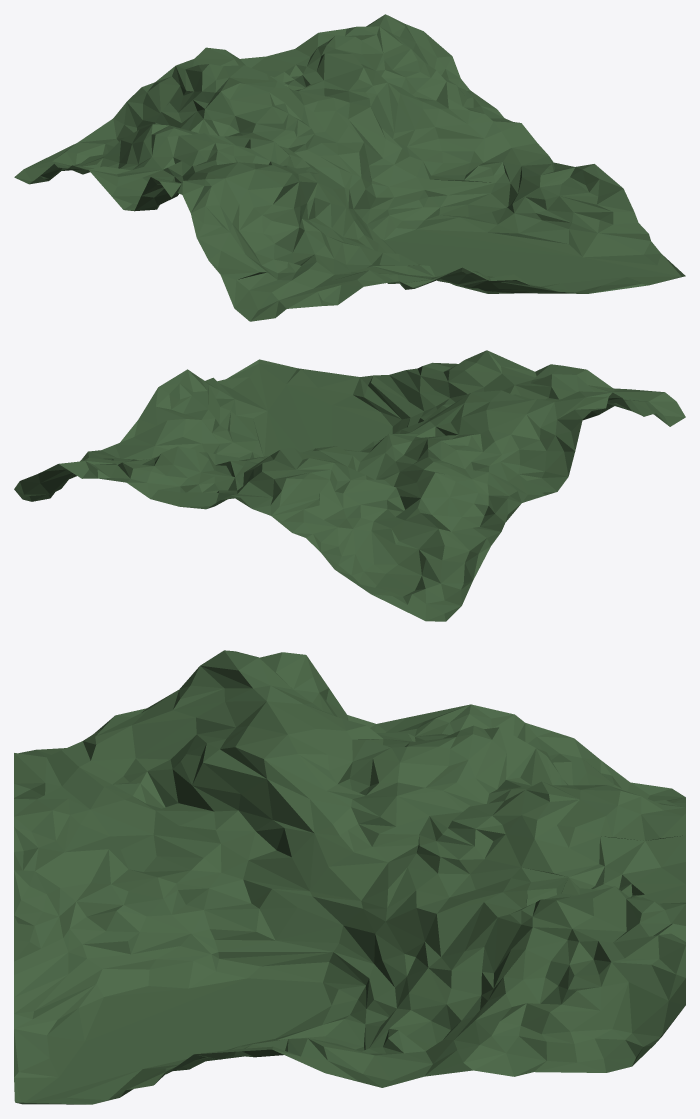
Rendered from SM_landscape_04.fbx.
3 renders of one model, top to bottom at view 1: azimuth 30°, elevation 25°; view 2: azimuth 150°, elevation 25°; view 3: azimuth 270°, elevation 25°, orthographic. The views are drawn at different scales.
Visible parts, largest first — view 1: landscape_04; view 2: landscape_04; view 3: landscape_04.
Boxes of the visible parts, x1,y1,x2,y2 form: landscape_04: (14,14,685,321); landscape_04: (14,350,685,621); landscape_04: (14,650,685,1104).
Bounding box in the file's own units: 880 × 257 × 880.
